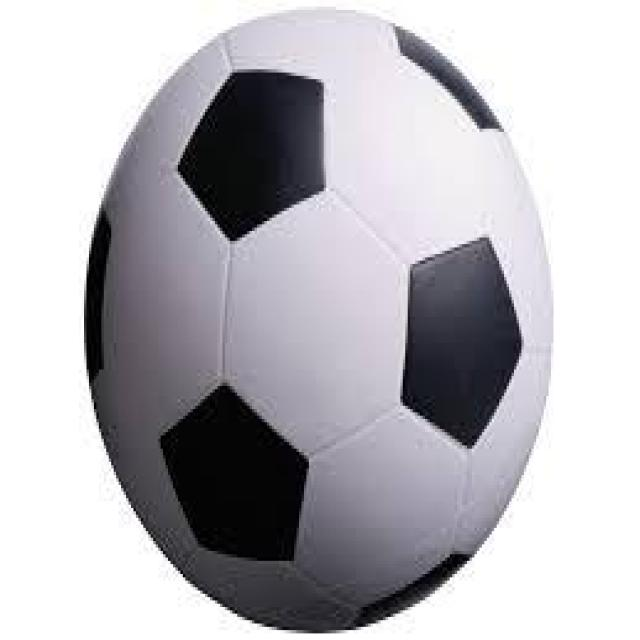Soccer Ball: (86, 0, 556, 637)
